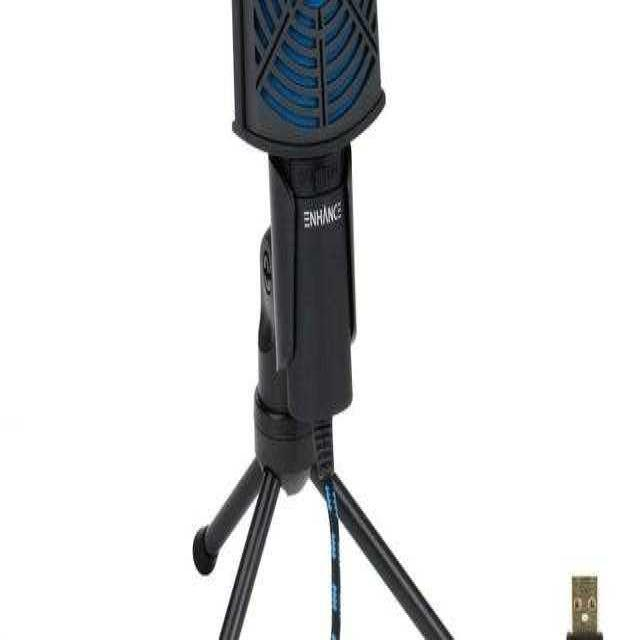microphone: (231, 1, 381, 431)
